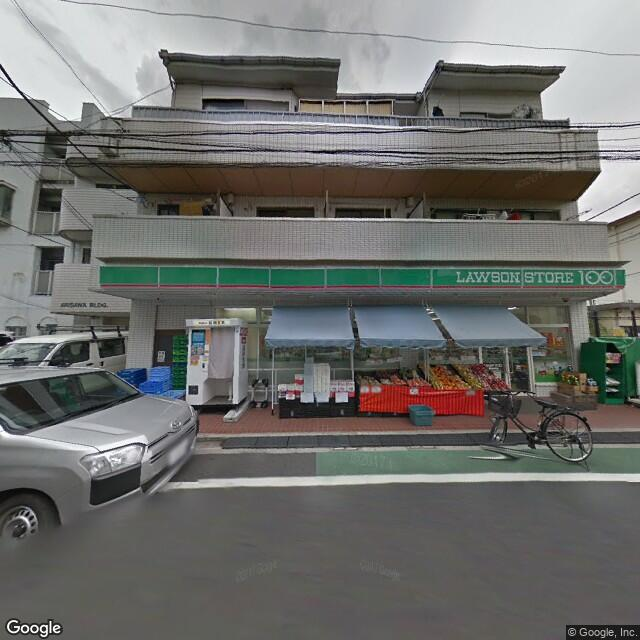lawson: (92, 261, 628, 295)
